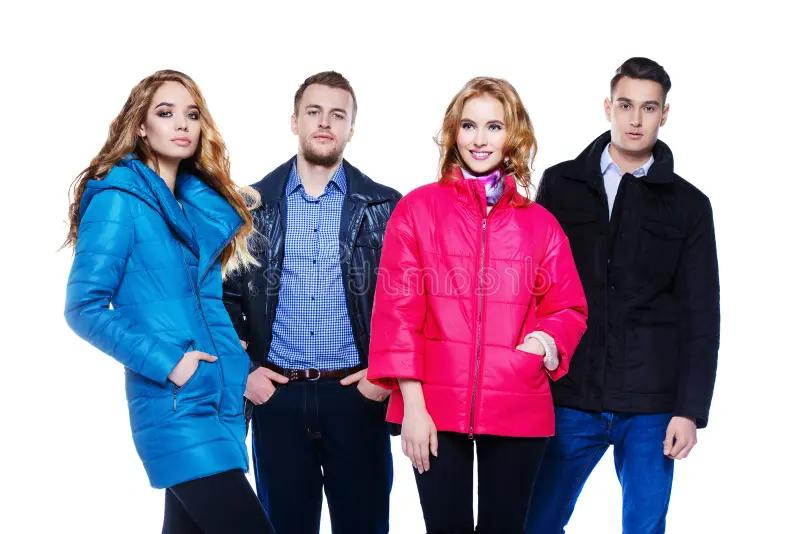coat: (61, 148, 253, 492), (367, 164, 590, 440), (532, 128, 723, 430)
jacket: (220, 152, 408, 442)
long sleeve shirt: (266, 157, 361, 371)
trousers: (249, 372, 397, 534), (521, 406, 683, 534), (408, 429, 543, 534), (155, 465, 283, 534)
